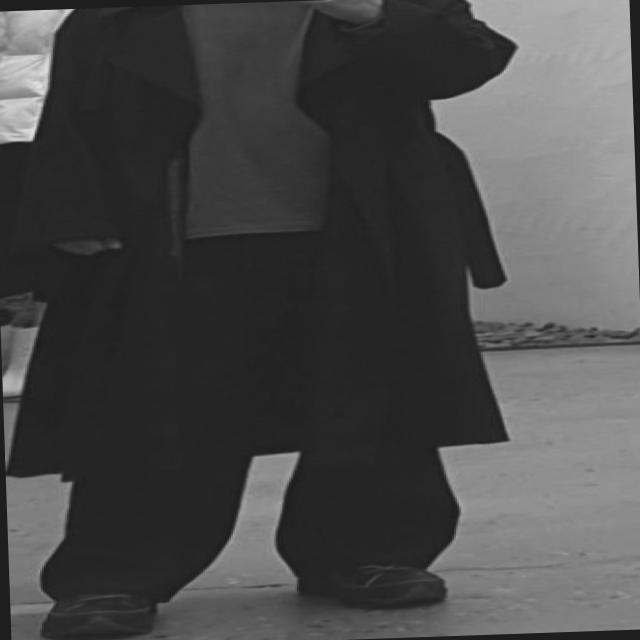coat: (0, 0, 531, 480)
slacks: (19, 222, 447, 596)
